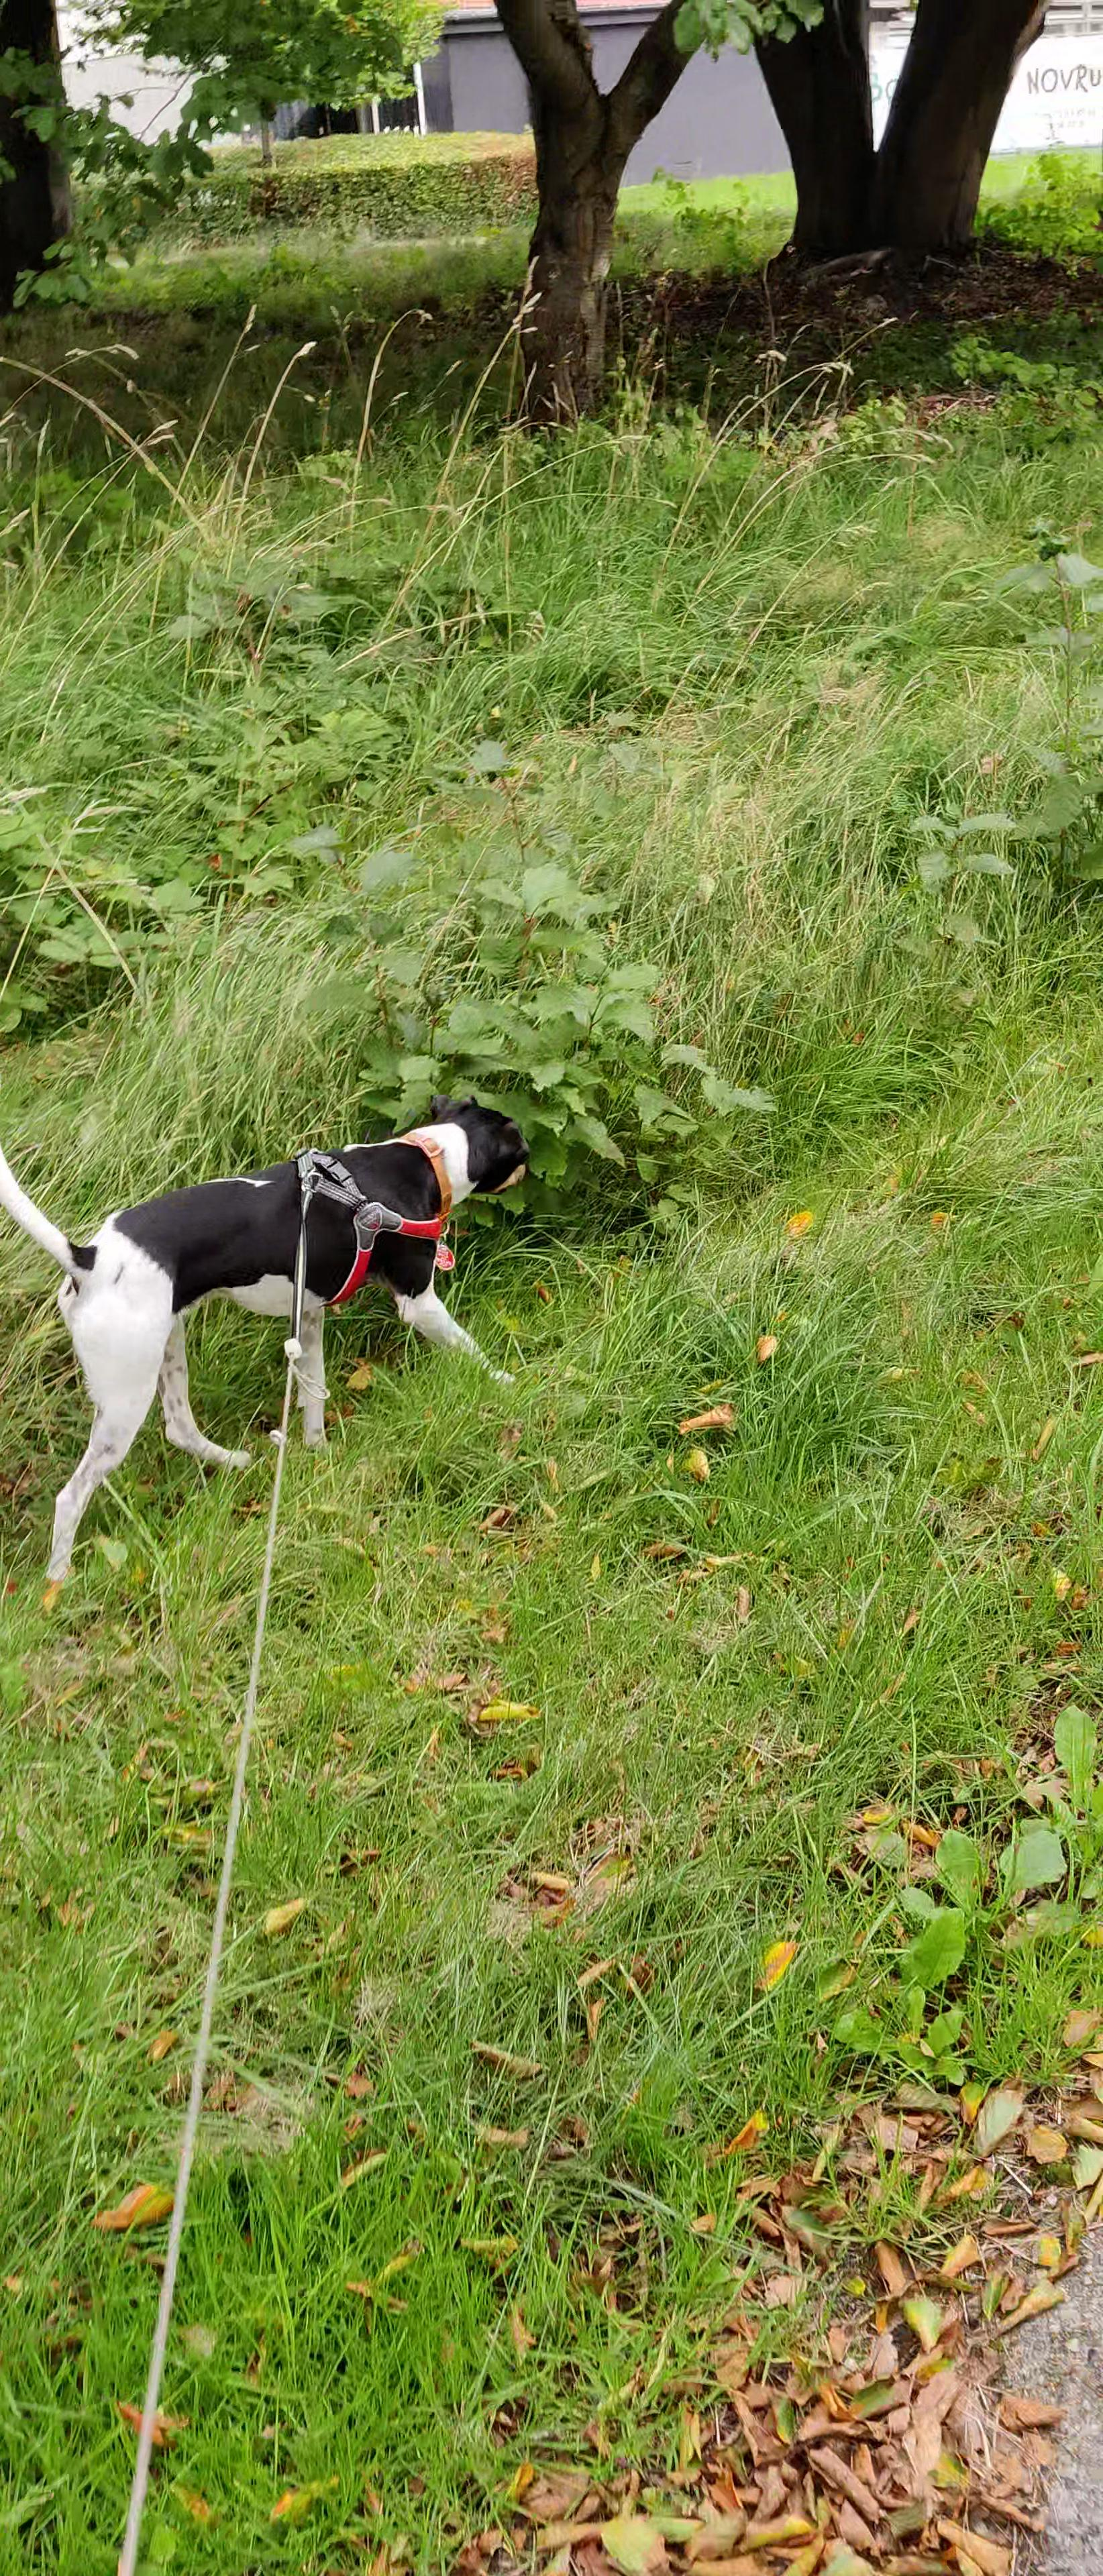Dog: (0, 1089, 542, 1589)
